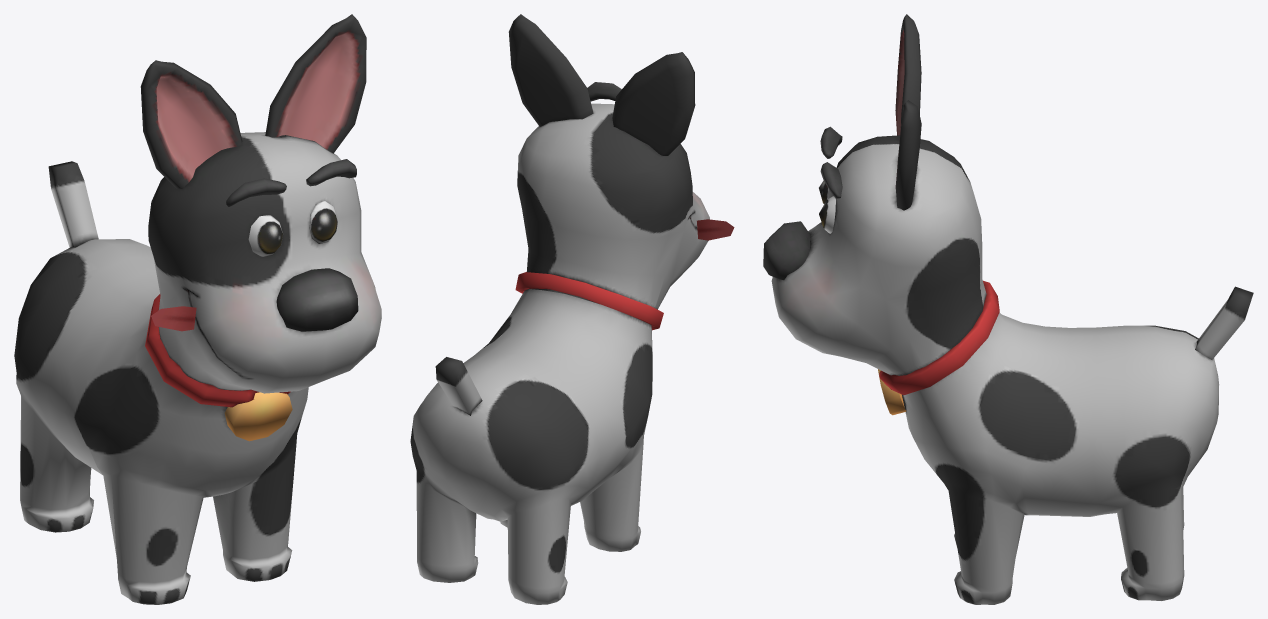
Rendered from 0-dog_black.fbx.
3 renders of one model, left to right at view 1: azimuth 30°, elevation 25°; view 2: azimuth 150°, elevation 25°; view 3: azimuth 270°, elevation 25°, orthographic. The views are drawn at different scales.
Parts seen in each view (by area): view 1: 0-dog_black; view 2: 0-dog_black; view 3: 0-dog_black.
Part boxes in pixels (bbox=[...]): 0-dog_black: bbox=[14, 14, 381, 604]; 0-dog_black: bbox=[410, 14, 734, 604]; 0-dog_black: bbox=[763, 14, 1253, 604].
Bounding box in the file's own units: 36.69 × 82.76 × 71.24.
